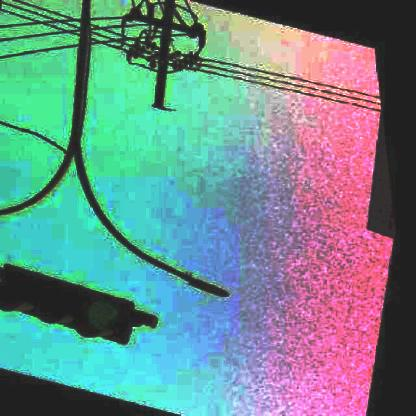Traffic Light -Green-: (1, 267, 141, 347)
